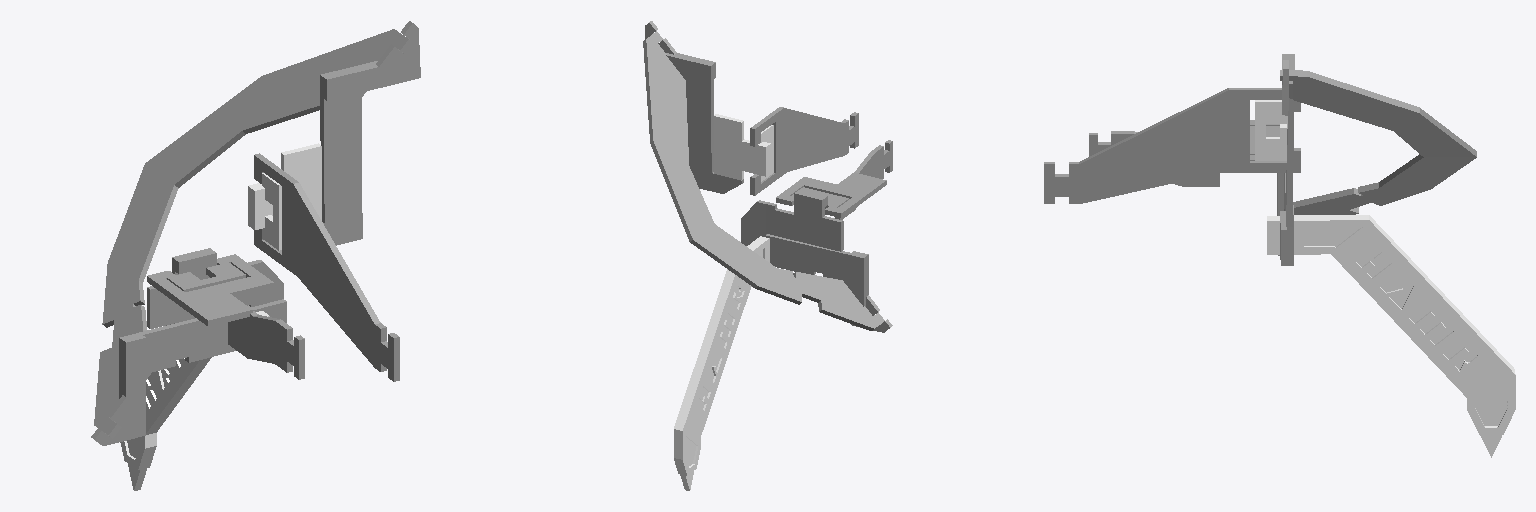
The robot description file, URDF, robot "SL_assemFull2":
<?xml version="1.0"?>
<robot
  name="SL_assemFull2">
  <link
    name="Chassis">
    <inertial>
      <origin
        xyz="-1.7085E-06 -0.00016805 -6.005E-05"
        rpy="0 0 0" />
      <mass
        value="0.00015782" />
      <inertia
        ixx="3.148E-09"
        ixy="-5.1759E-14"
        ixz="-2.6324E-13"
        iyy="1.9031E-08"
        iyz="-1.8192E-12"
        izz="1.5888E-08" />
    </inertial>
    <visual>
      <origin
        xyz="0 0 0"
        rpy="0 0 0" />
      <geometry>
        <mesh
          filename="package://SL_assemFull2/meshes/Chassis.stl" />
      </geometry>
      <material
        name="">
        <color
          rgba="0.75294 0.75294 0.75294 1" />
      </material>
    </visual>
    <collision>
      <origin
        xyz="0 0 0"
        rpy="0 0 0" />
      <geometry>
        <mesh
          filename="package://SL_assemFull2/meshes/Chassis.stl" />
      </geometry>
    </collision>
  </link>
  <link
    name="FLS1">
    <inertial>
      <origin
        xyz="-4.4235E-17 0.0040837 0.0013542"
        rpy="0 0 0" />
      <mass
        value="8.1633E-06" />
      <inertia
        ixx="5.8035E-11"
        ixy="5.1465E-25"
        ixz="1.6138E-25"
        iyy="1.0937E-11"
        iyz="-1.4734E-11"
        izz="4.7177E-11" />
    </inertial>
    <visual>
      <origin
        xyz="0 0 0"
        rpy="0 0 0" />
      <geometry>
        <mesh
          filename="package://SL_assemFull2/meshes/FLS1.stl" />
      </geometry>
      <material
        name="">
        <color
          rgba="0.69804 0.69804 0.69804 1" />
      </material>
    </visual>
    <collision>
      <origin
        xyz="0 0 0"
        rpy="0 0 0" />
      <geometry>
        <mesh
          filename="package://SL_assemFull2/meshes/FLS1.stl" />
      </geometry>
    </collision>
  </link>
  <joint
    name="FLqsact"
    type="prismatic">
    <origin
      xyz="0.0132846598152907 -0.00845331587342392 -0.000498260011089042"
      rpy="0 0 0" />
    <parent
      link="Chassis" />
    <child
      link="FLS1" />
    <axis
      xyz="0 1 0" />
  </joint>
  <link
    name="FLS2">
    <inertial>
      <origin
        xyz="0.0007029 -8.6307E-05 0.00010229"
        rpy="0 0 0" />
      <mass
        value="3.8895E-06" />
      <inertia
        ixx="2.6164E-12"
        ixy="-5.7753E-13"
        ixz="-3.2639E-13"
        iyy="4.7814E-12"
        iyz="-8.2081E-14"
        izz="3.1898E-12" />
    </inertial>
    <visual>
      <origin
        xyz="0 0 0"
        rpy="0 0 0" />
      <geometry>
        <mesh
          filename="package://SL_assemFull2/meshes/FLS2.stl" />
      </geometry>
      <material
        name="">
        <color
          rgba="1 1 1 1" />
      </material>
    </visual>
    <collision>
      <origin
        xyz="0 0 0"
        rpy="0 0 0" />
      <geometry>
        <mesh
          filename="package://SL_assemFull2/meshes/FLS2.stl" />
      </geometry>
    </collision>
  </link>
  <joint
    name="FLqs1"
    type="revolute">
    <origin
      xyz="0 0.00821331587342393 0.00218825042921003"
      rpy="0 0 0" />
    <parent
      link="FLS1" />
    <child
      link="FLS2" />
    <axis
      xyz="0 0 -1" />
  </joint>
  <link
    name="FLS3">
    <inertial>
      <origin
        xyz="0.0014285 0.0018717 0.0030615"
        rpy="0 0 0" />
      <mass
        value="1.4069E-05" />
      <inertia
        ixx="1.1687E-10"
        ixy="3.1475E-11"
        ixz="-2.8715E-11"
        iyy="8.1333E-11"
        iyz="2.0086E-11"
        izz="9.5112E-11" />
    </inertial>
    <visual>
      <origin
        xyz="0 0 0"
        rpy="0 0 0" />
      <geometry>
        <mesh
          filename="package://SL_assemFull2/meshes/FLS3.stl" />
      </geometry>
      <material
        name="">
        <color
          rgba="0.69804 0.69804 0.69804 1" />
      </material>
    </visual>
    <collision>
      <origin
        xyz="0 0 0"
        rpy="0 0 0" />
      <geometry>
        <mesh
          filename="package://SL_assemFull2/meshes/FLS3.stl" />
      </geometry>
    </collision>
  </link>
  <joint
    name="FLqfb1"
    type="revolute">
    <origin
      xyz="0.00152118243243258 0.000119999999999992 -0.00125"
      rpy="0 0 0" />
    <parent
      link="FLS2" />
    <child
      link="FLS3" />
    <axis
      xyz="-1 0 0" />
  </joint>
  <link
    name="FLL1">
    <inertial>
      <origin
        xyz="-0.00015469 0.0033385 5.8575E-05"
        rpy="0 0 0" />
      <mass
        value="6.1384E-06" />
      <inertia
        ixx="2.2433E-11"
        ixy="1.9915E-13"
        ixz="3.0682E-13"
        iyy="5.3665E-12"
        iyz="-1.829E-12"
        izz="2.4839E-11" />
    </inertial>
    <visual>
      <origin
        xyz="0 0 0"
        rpy="0 0 0" />
      <geometry>
        <mesh
          filename="package://SL_assemFull2/meshes/FLL1.stl" />
      </geometry>
      <material
        name="">
        <color
          rgba="0.69804 0.69804 0.69804 1" />
      </material>
    </visual>
    <collision>
      <origin
        xyz="0 0 0"
        rpy="0 0 0" />
      <geometry>
        <mesh
          filename="package://SL_assemFull2/meshes/FLL1.stl" />
      </geometry>
    </collision>
  </link>
  <joint
    name="FLqlact"
    type="prismatic">
    <origin
      xyz="0.0105046598152907 -0.00699822017852313 -0.000521698113120575"
      rpy="0 0 0" />
    <parent
      link="Chassis" />
    <child
      link="FLL1" />
    <axis
      xyz="0 1 0" />
  </joint>
  <link
    name="FLL2">
    <inertial>
      <origin
        xyz="0.00011652 0.0001137 -0.0005651"
        rpy="0 0 0" />
      <mass
        value="4.2308E-06" />
      <inertia
        ixx="2.753E-12"
        ixy="-1.2143E-13"
        ixz="3.1854E-13"
        iyy="5.8098E-12"
        iyz="6.062E-13"
        izz="4.7043E-12" />
    </inertial>
    <visual>
      <origin
        xyz="0 0 0"
        rpy="0 0 0" />
      <geometry>
        <mesh
          filename="package://SL_assemFull2/meshes/FLL2.stl" />
      </geometry>
      <material
        name="">
        <color
          rgba="0.69804 0.69804 0.69804 1" />
      </material>
    </visual>
    <collision>
      <origin
        xyz="0 0 0"
        rpy="0 0 0" />
      <geometry>
        <mesh
          filename="package://SL_assemFull2/meshes/FLL2.stl" />
      </geometry>
    </collision>
  </link>
  <joint
    name="FLql1"
    type="revolute">
    <origin
      xyz="0 0.00651822017852312 0.000381688531241596"
      rpy="0 0 0" />
    <parent
      link="FLL1" />
    <child
      link="FLL2" />
    <axis
      xyz="-1 0 0" />
  </joint>
  <link
    name="FLL3">
    <inertial>
      <origin
        xyz="-0.0024909 0.0014997 -0.0015092"
        rpy="0 0 0" />
      <mass
        value="1.4039E-05" />
      <inertia
        ixx="9.2029E-11"
        ixy="-1.3135E-11"
        ixz="-2.5531E-11"
        iyy="8.4043E-11"
        iyz="-2.7723E-11"
        izz="1.244E-10" />
    </inertial>
    <visual>
      <origin
        xyz="0 0 0"
        rpy="0 0 0" />
      <geometry>
        <mesh
          filename="package://SL_assemFull2/meshes/FLL3.stl" />
      </geometry>
      <material
        name="">
        <color
          rgba="0.69804 0.69804 0.69804 1" />
      </material>
    </visual>
    <collision>
      <origin
        xyz="0 0 0"
        rpy="0 0 0" />
      <geometry>
        <mesh
          filename="package://SL_assemFull2/meshes/FLL3.stl" />
      </geometry>
    </collision>
  </link>
  <joint
    name="FLqfb3"
    type="revolute">
    <origin
      xyz="0.00224999999999995 0.000360000000000009 -0.0010700000000001"
      rpy="0 0 0" />
    <parent
      link="FLL2" />
    <child
      link="FLL3" />
    <axis
      xyz="0 0 -1" />
  </joint>
  <link
    name="Leg">
    <inertial>
      <origin
        xyz="-8.6736E-19 8.6736E-19 1.7347E-18"
        rpy="0 0 0" />
      <mass
        value="1.6993E-05" />
      <inertia
        ixx="2.0653E-10"
        ixy="1.9578E-12"
        ixz="-1.8701E-12"
        iyy="1.0898E-10"
        iyz="9.3105E-11"
        izz="9.8198E-11" />
    </inertial>
    <visual>
      <origin
        xyz="0 0 0"
        rpy="0 0 0" />
      <geometry>
        <mesh
          filename="package://SL_assemFull2/meshes/Leg.stl" />
      </geometry>
      <material
        name="">
        <color
          rgba="1 1 1 1" />
      </material>
    </visual>
    <collision>
      <origin
        xyz="0 0 0"
        rpy="0 0 0" />
      <geometry>
        <mesh
          filename="package://SL_assemFull2/meshes/Leg.stl" />
      </geometry>
    </collision>
  </link>
  <joint
    name="LegJoint"
    type="fixed">
    <origin
      xyz="-3.18858878331019E-05 0.00460395461237099 -0.00480326038677678"
      rpy="0 0 0" />
    <parent
      link="FLL3" />
    <child
      link="Leg" />
    <axis
      xyz="0 0 0" />
  </joint>
</robot>

--- What the picture shows (computed from the rendered views, not written in the file) ---
3 views of the same robot in one strip: view 1: azimuth 30°, elevation 25°; view 2: azimuth 150°, elevation 25°; view 3: azimuth 270°, elevation 25° (orthographic).
Robot: SL_assemFull2 — 8 links, 7 joints (4 revolute, 2 prismatic, 1 fixed); root link Chassis; default pose: all joints at 0.
Links seen in each view (by area): view 1: FLS3, FLL3, FLS1, FLL1, FLS2, Leg, FLL2; view 2: FLS3, FLL3, Leg, FLS1, FLL2, FLS2, FLL1; view 3: Leg, FLS1, FLS3, FLL3, FLS2, FLL1.
Boxes of the visible links, <box> form: FLS3: <box>145,21,420,245</box>; FLL3: <box>91,164,286,445</box>; FLS1: <box>254,153,399,381</box>; FLL1: <box>147,254,304,379</box>; FLS2: <box>248,143,321,250</box>; Leg: <box>120,311,269,490</box>; FLL2: <box>147,248,250,328</box>; FLS3: <box>643,21,743,241</box>; FLL3: <box>690,200,892,332</box>; Leg: <box>674,236,769,490</box>; FLS1: <box>750,107,858,195</box>; FLL2: <box>766,187,848,251</box>; FLS2: <box>714,114,773,181</box>; FLL1: <box>776,140,892,219</box>; Leg: <box>1267,215,1515,457</box>; FLS1: <box>1044,88,1300,203</box>; FLS3: <box>1280,54,1476,226</box>; FLL3: <box>1277,154,1476,265</box>; FLS2: <box>1255,100,1287,160</box>; FLL1: <box>1089,120,1279,186</box>.
Bounding box of the posed robot: 0.013 × 0.0176 × 0.0193 m (x, y, z).
7 mesh visuals loaded from 8 distinct referenced files (7 binary STL); not drawn: 1 (reference not matched to a file when rendering).